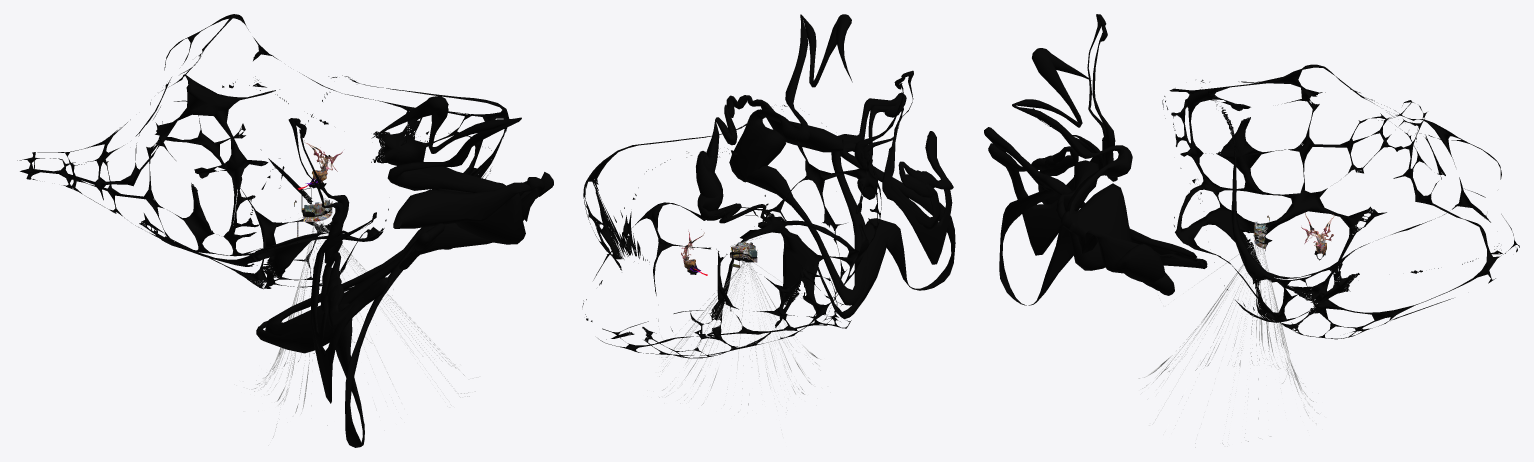
3 views of the same model, side by side, from view 1: azimuth 30°, elevation 25°; view 2: azimuth 150°, elevation 25°; view 3: azimuth 270°, elevation 25° (orthographic). The views are drawn at different scales.
Visible parts, largest first — view 1: drawsel; view 2: drawsel; view 3: drawsel.
Part boxes in pixels (x1,y1,x2,y2): drawsel: [17, 14, 553, 447]; drawsel: [582, 14, 955, 430]; drawsel: [984, 14, 1519, 447].
Size of the model in its own units: 385 by 383 by 475.
Materials: 16 (16 with a texture image).
